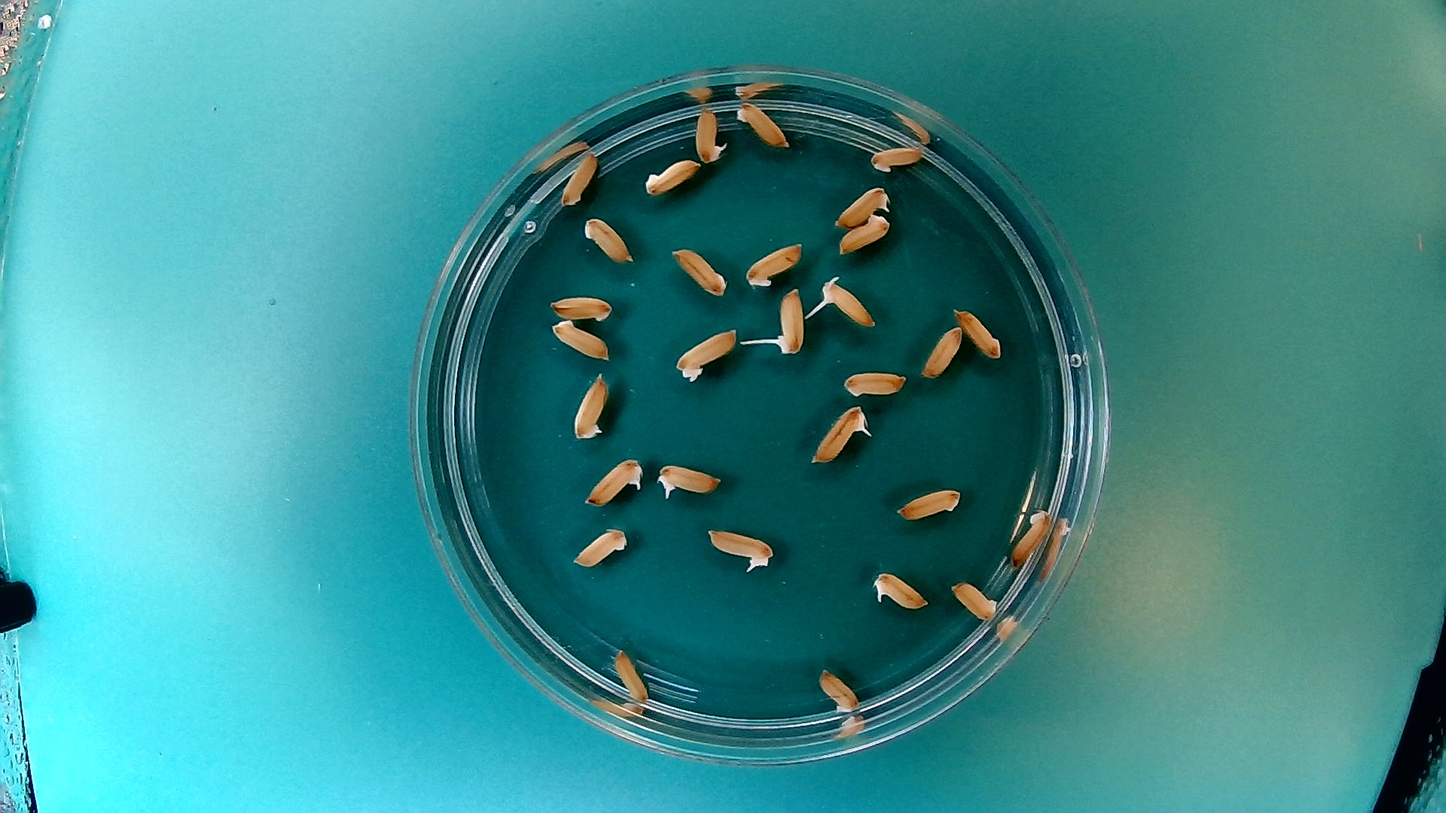no: (672, 324, 741, 385), (668, 243, 731, 300), (568, 367, 613, 443), (743, 236, 807, 289), (731, 97, 792, 150), (580, 212, 638, 266), (548, 316, 614, 363), (570, 523, 631, 570), (1007, 506, 1053, 568), (557, 147, 602, 209), (892, 483, 963, 522), (610, 644, 653, 706), (835, 209, 894, 254), (953, 309, 1004, 361), (920, 322, 965, 379), (644, 159, 702, 200), (546, 289, 615, 323), (947, 577, 1000, 621), (816, 665, 862, 714), (868, 140, 930, 172), (843, 370, 909, 398)
yes: (806, 403, 872, 467), (581, 453, 647, 510), (815, 272, 877, 330), (703, 524, 776, 573), (654, 459, 727, 502), (870, 568, 932, 614), (770, 284, 808, 359), (832, 182, 893, 227), (694, 104, 730, 163)
